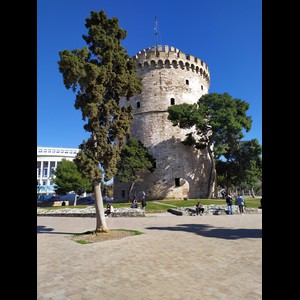White Tower: (112, 15, 220, 202)
